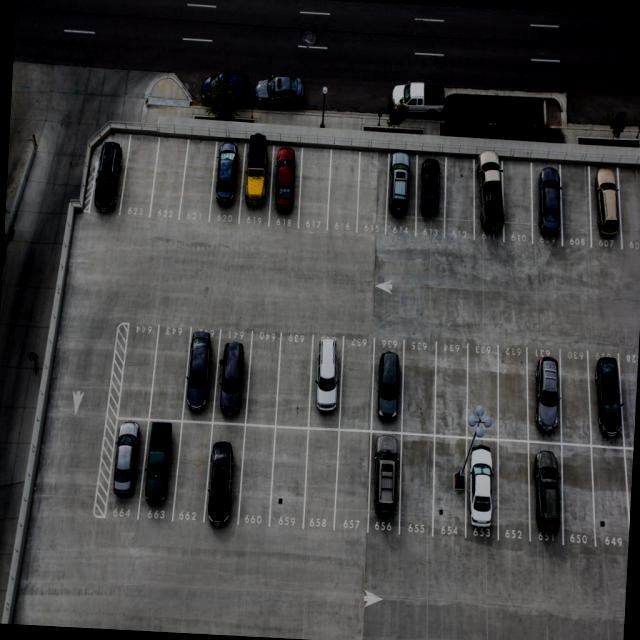space-empty: (589, 449, 633, 555), (558, 443, 598, 549), (491, 439, 531, 544), (305, 432, 343, 534), (398, 433, 437, 532), (401, 343, 440, 442), (499, 160, 539, 253), (241, 421, 276, 527), (336, 435, 373, 533), (270, 430, 308, 525), (180, 136, 217, 231), (176, 427, 211, 527), (152, 333, 190, 424), (119, 327, 154, 422), (339, 337, 375, 428), (466, 345, 502, 433), (247, 329, 281, 422), (435, 346, 470, 436), (277, 337, 310, 432), (443, 157, 479, 244), (153, 134, 187, 225), (297, 147, 332, 235), (558, 351, 591, 444), (327, 151, 363, 235), (557, 170, 593, 253), (356, 152, 391, 236), (124, 131, 157, 218), (498, 350, 529, 431), (618, 344, 639, 444), (617, 168, 640, 254)
space-occupied: (524, 438, 570, 546), (432, 436, 472, 542), (524, 347, 567, 437), (367, 432, 403, 539), (210, 418, 245, 527), (144, 424, 181, 525), (184, 330, 222, 423), (587, 346, 623, 444), (107, 423, 145, 511), (215, 333, 253, 420), (472, 154, 508, 245), (373, 346, 408, 439), (465, 438, 497, 539), (91, 126, 127, 215), (587, 172, 628, 250), (210, 140, 243, 234), (527, 166, 564, 247), (416, 153, 451, 234), (241, 141, 272, 232), (272, 142, 303, 233), (386, 154, 421, 234), (311, 342, 344, 426)
